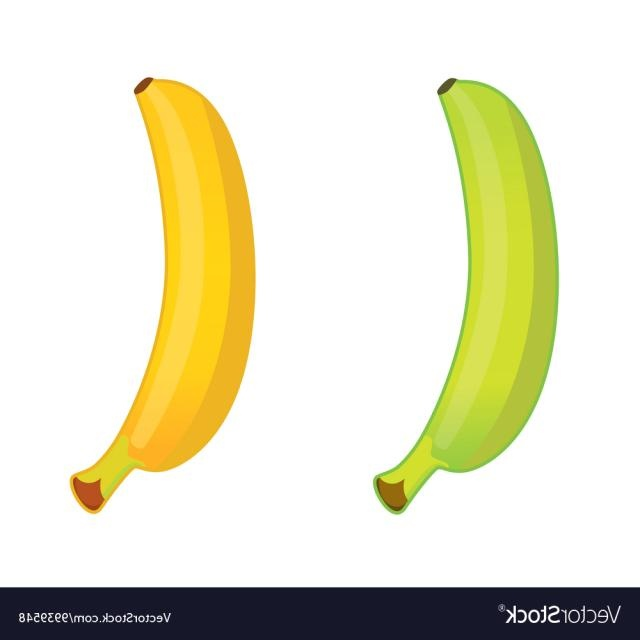agrume: (64, 77, 258, 519), (371, 74, 563, 518)
